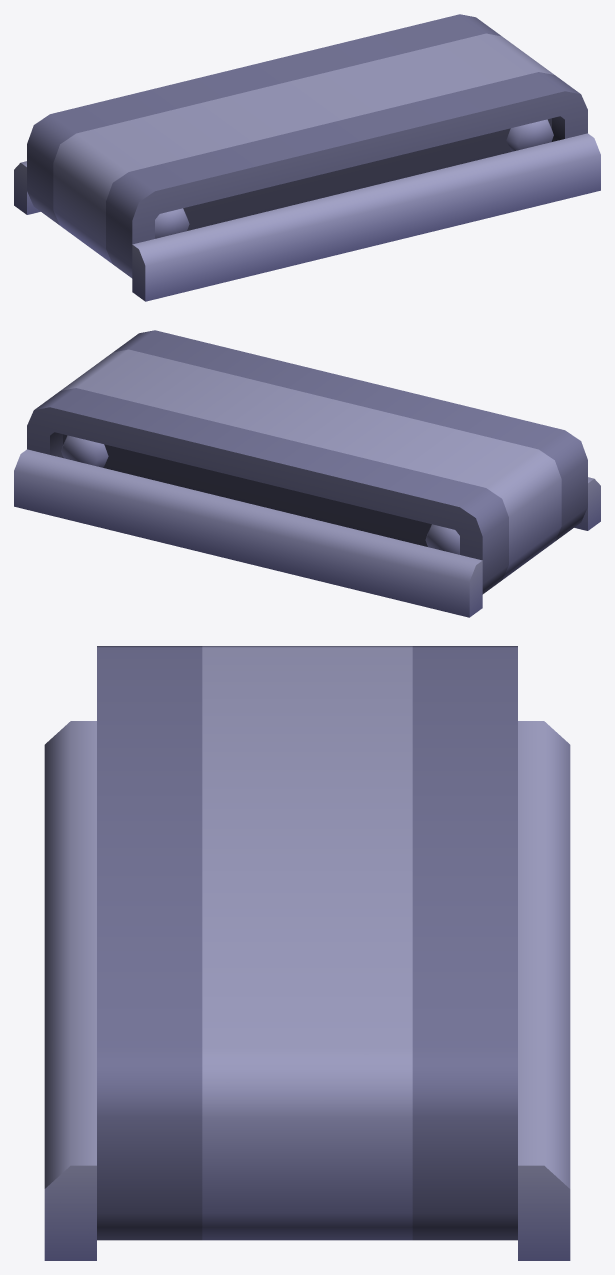
The model's file is kenney-factory-conveyor-long-stripe-sides.glb.
3 views of the same model, one above another, from view 1: azimuth 30°, elevation 25°; view 2: azimuth 150°, elevation 25°; view 3: azimuth 270°, elevation 25° (orthographic). The views are drawn at different scales.
Parts seen in each view (by area): view 1: conveyor-long-stripe-sides; view 2: conveyor-long-stripe-sides; view 3: conveyor-long-stripe-sides.
Boxes of the visible parts, x1,y1,x2,y2 form: conveyor-long-stripe-sides: (14,14,600,301); conveyor-long-stripe-sides: (14,330,600,617); conveyor-long-stripe-sides: (44,646,570,1260).
Size of the model in its own units: 3 by 0.6 by 1.5.
1 material, 1 textured.
